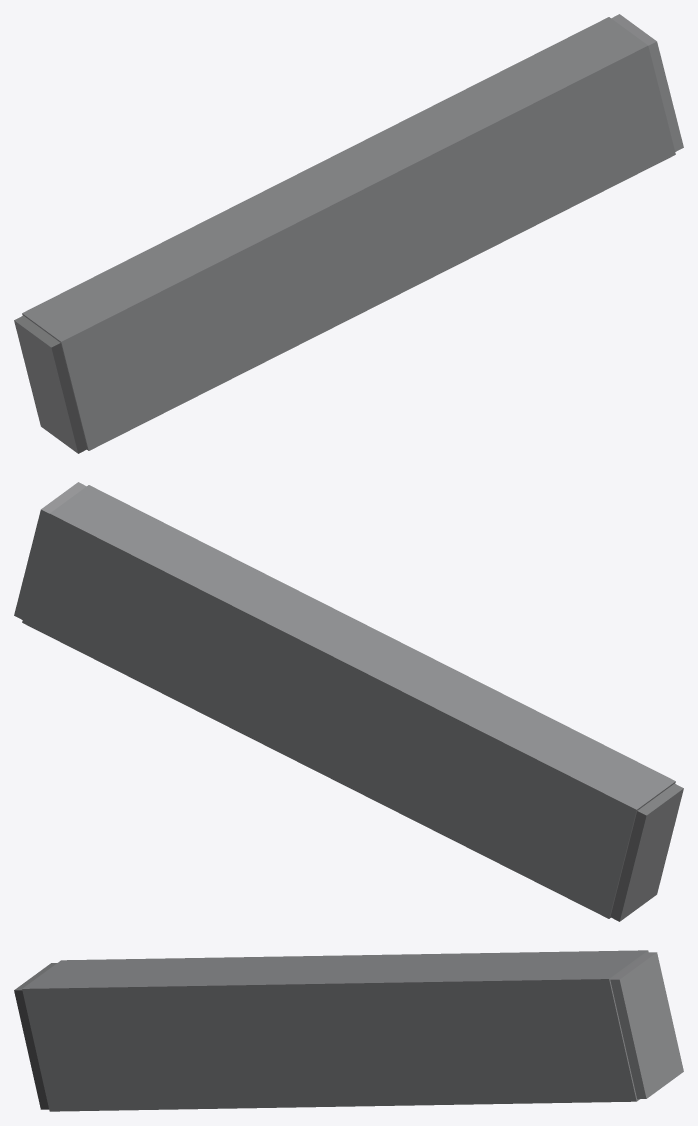
The picture shows the model from 3 angles, top to bottom: view 1: azimuth 30°, elevation 25°; view 2: azimuth 150°, elevation 25°; view 3: azimuth 330°, elevation 25°; orthographic projection.
Size of the model in its own units: 0.9427 by 0.3863 by 0.1012.
